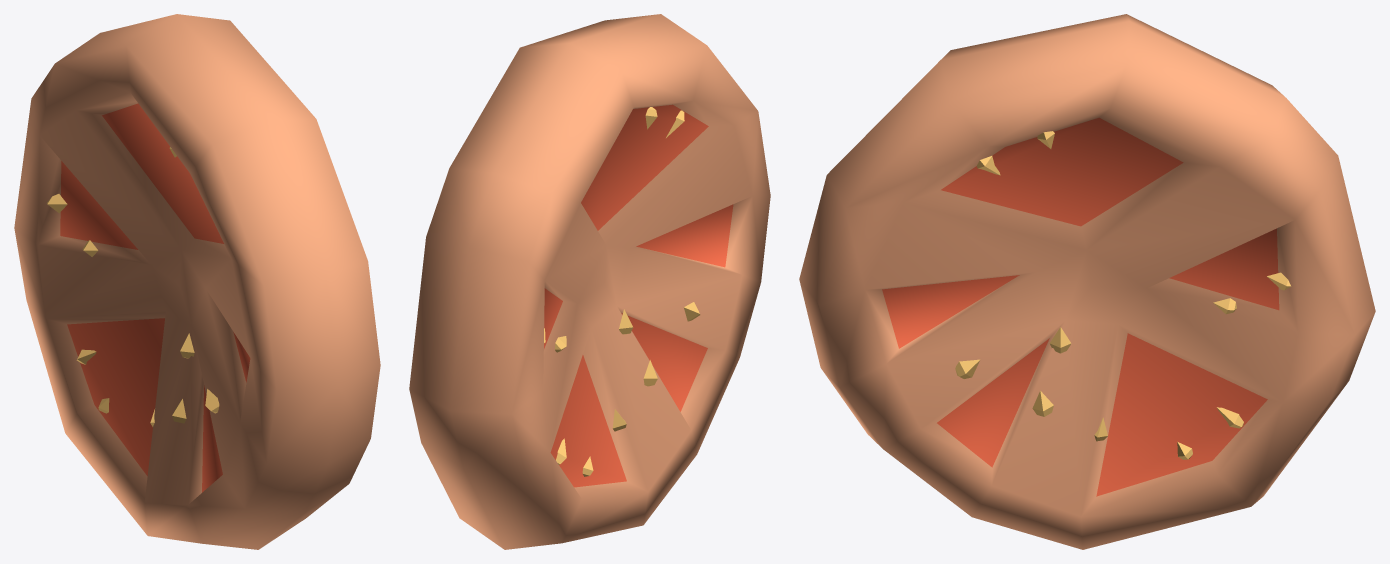
The model's file is TomatoSlice.fbx.
The picture shows the model from 3 angles, left to right: view 1: azimuth 30°, elevation 25°; view 2: azimuth 150°, elevation 25°; view 3: azimuth 270°, elevation 25°; orthographic projection. The views are drawn at different scales.
Visible parts, largest first — view 1: tomatoSlice; view 2: tomatoSlice; view 3: tomatoSlice.
Boxes of the visible parts, x1,y1,x2,y2 form: tomatoSlice: (14, 14, 380, 549); tomatoSlice: (409, 14, 770, 549); tomatoSlice: (799, 14, 1375, 549).
Size of the model in its own units: 27.97 by 122 by 122.
